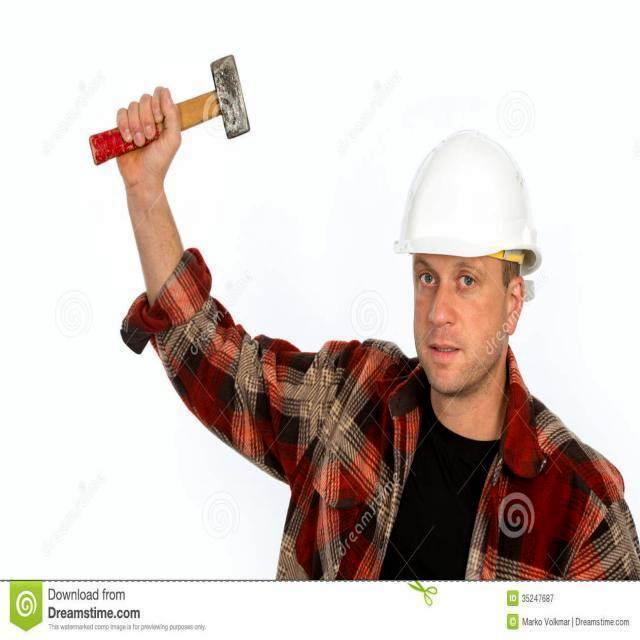hammer: (84, 51, 256, 175)
